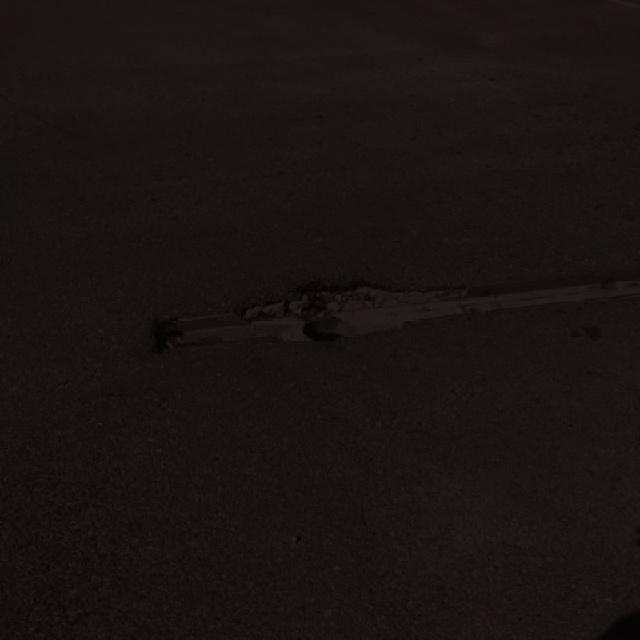Pothole: (140, 266, 506, 359)
